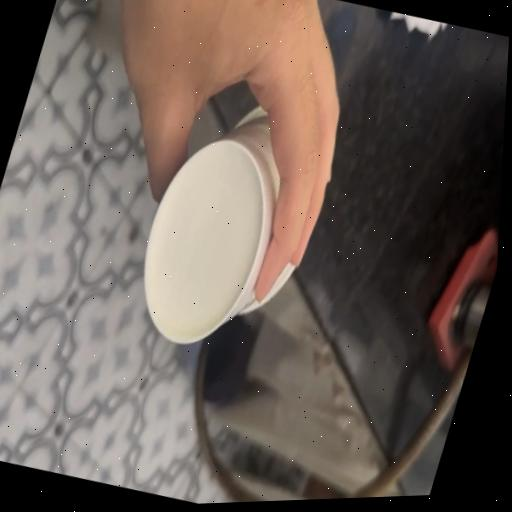Ly_giay: (144, 107, 294, 343)
